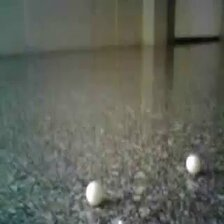w: (85, 181, 102, 205), (185, 154, 201, 174)
